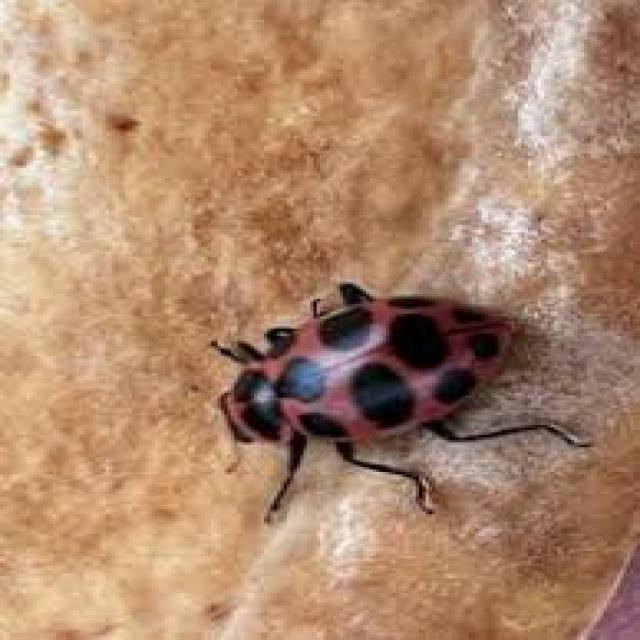bug: (204, 274, 613, 524)
